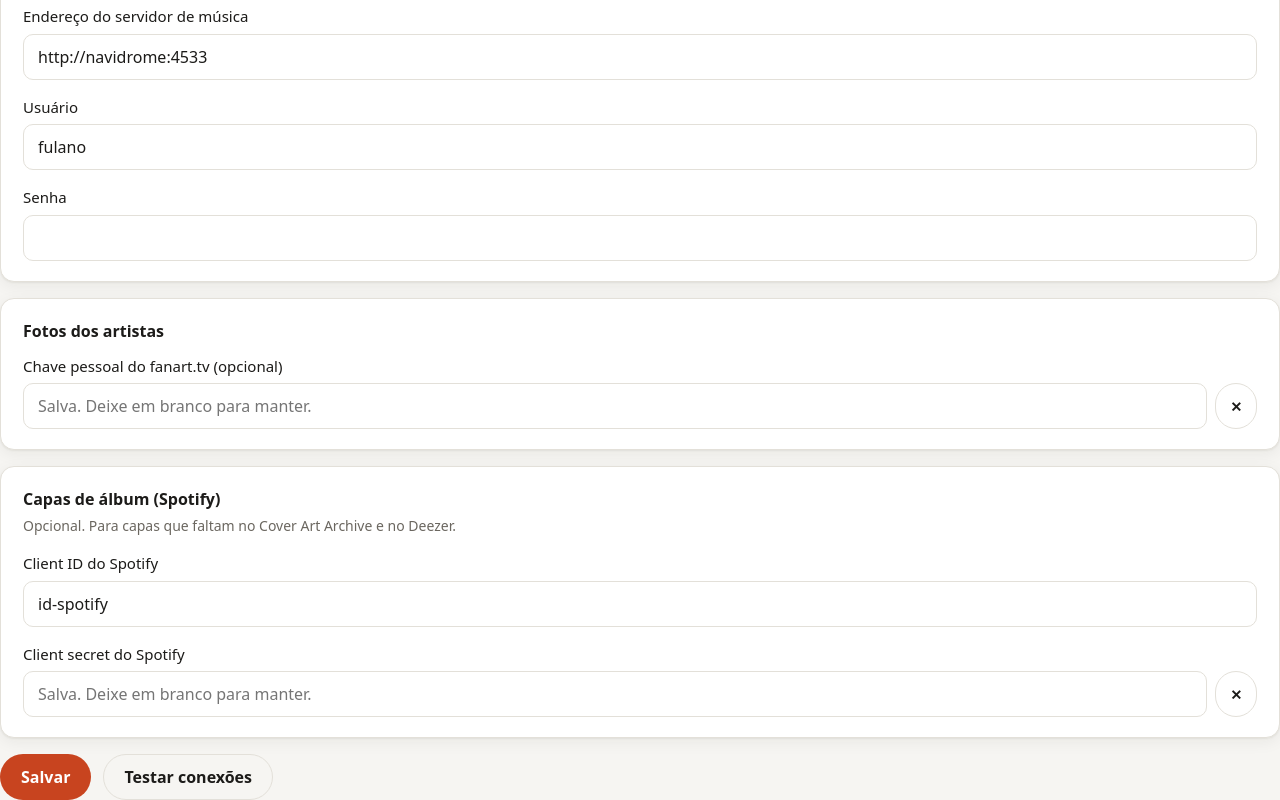
it: ServerSettingsForm › avisa quando não consegue salvar
(page scrolled)
Click the button "Salvar" at coordinates (46, 777), box [0,754,91,799]
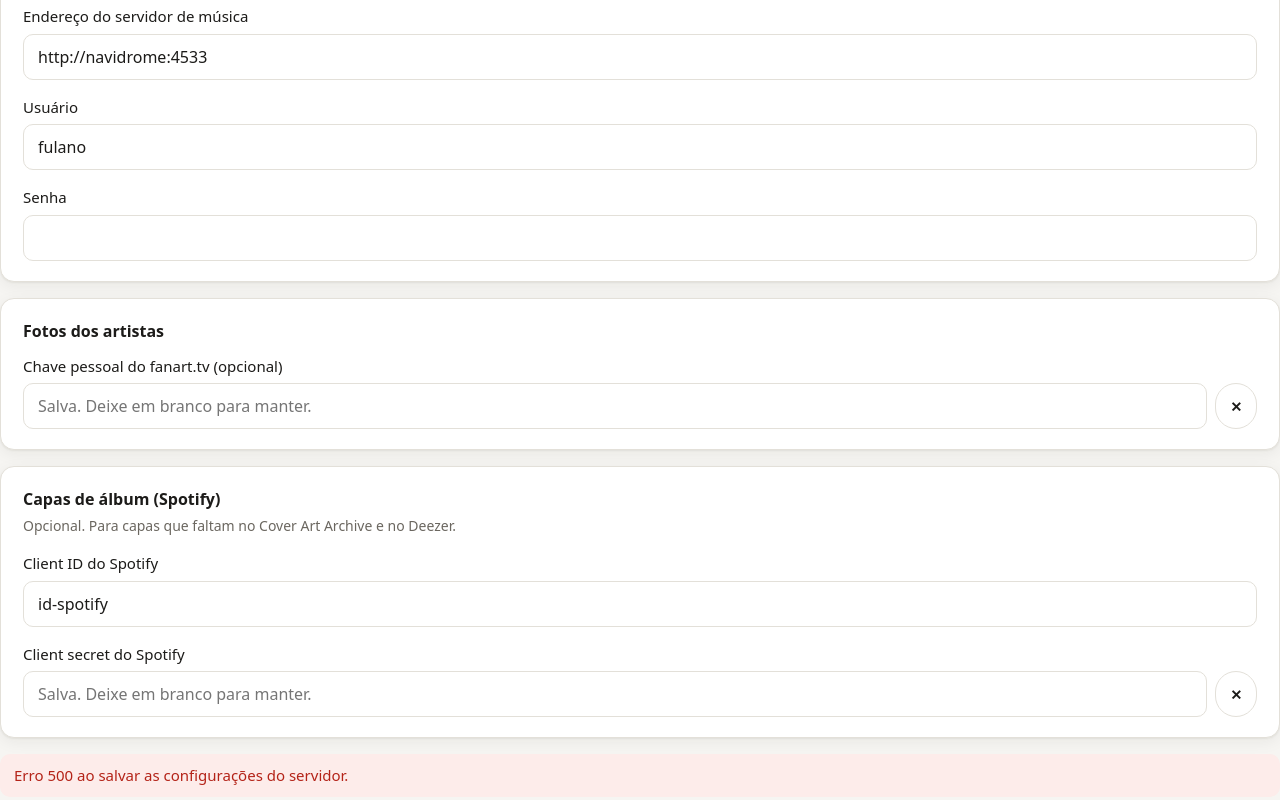
Result: the message reads "Erro 500 ao salvar as configurações do servidor." at [14,765,348,785]
